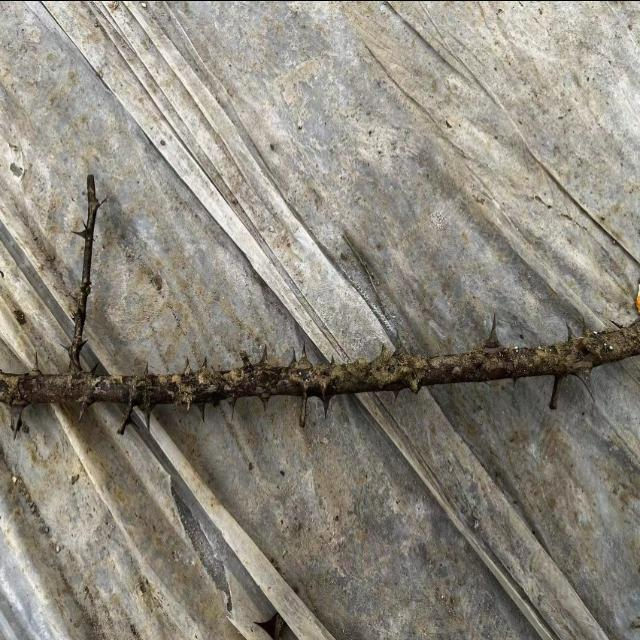branch: (0, 308, 640, 411), (71, 174, 100, 375)
